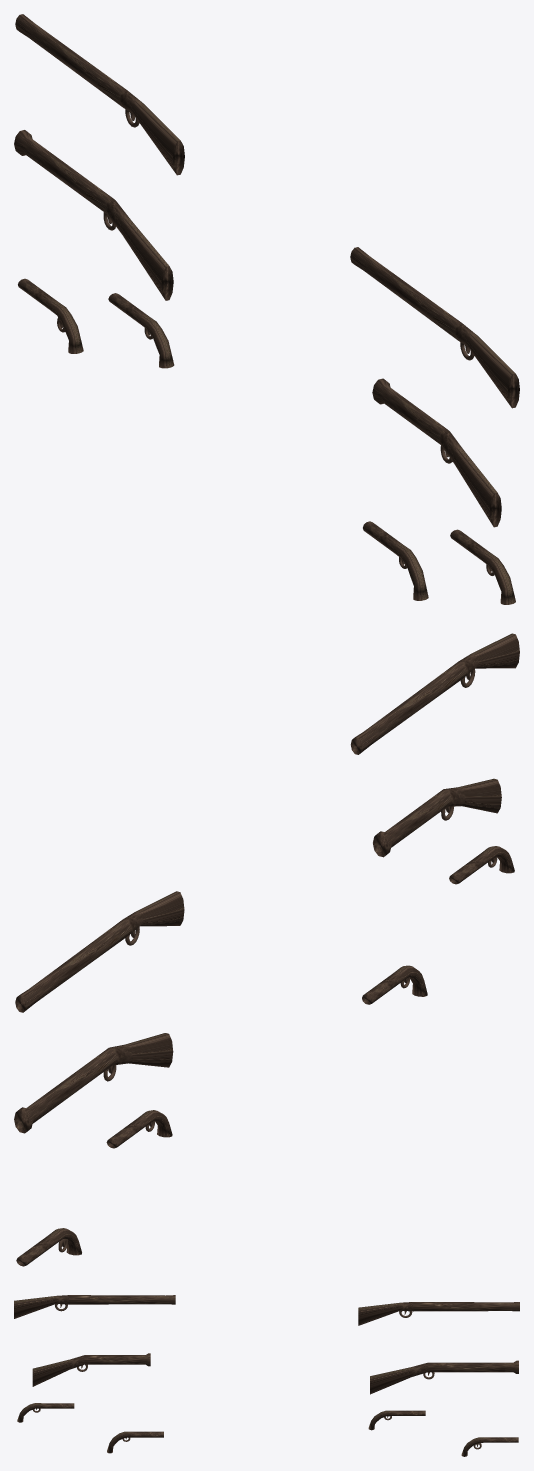
The model's file is koleksi.fbx.
3 views of the same model, one above another, from view 1: azimuth 30°, elevation 25°; view 2: azimuth 150°, elevation 25°; view 3: azimuth 270°, elevation 25° (orthographic). The views are drawn at different scales.
Parts seen in each view (by area): view 1: senjata.xl.001, senjata.xxl, senjata.xxl.001, senjata.xl, pistol.s2, pistol.s1.001, pistol.s1.002, pistol.s1; view 2: senjata.xxl, senjata.xxl.001, senjata.xl.001, senjata.xl, pistol.s2, pistol.s1, pistol.s1.001, pistol.s1.002; view 3: senjata.xl.001, senjata.xxl, senjata.xxl.001, senjata.xl, pistol.s2, pistol.s1.001, pistol.s1, pistol.s1.002.
Boxes of the visible parts, left/top/right/bottom form: senjata.xl.001: left=14, top=130, right=173, bottom=300; senjata.xxl: left=350, top=247, right=519, bottom=408; senjata.xxl.001: left=15, top=14, right=184, bottom=175; senjata.xl: left=372, top=378, right=501, bottom=527; pistol.s2: left=363, top=521, right=428, bottom=600; pistol.s1.001: left=108, top=293, right=174, bottom=368; pistol.s1.002: left=18, top=278, right=83, bottom=353; pistol.s1: left=450, top=529, right=515, bottom=604; senjata.xxl: left=350, top=633, right=519, bottom=754; senjata.xxl.001: left=15, top=891, right=184, bottom=1012; senjata.xl.001: left=14, top=1033, right=173, bottom=1133; senjata.xl: left=373, top=778, right=501, bottom=857; pistol.s2: left=362, top=965, right=427, bottom=1004; pistol.s1: left=449, top=846, right=514, bottom=884; pistol.s1.001: left=106, top=1110, right=172, bottom=1148; pistol.s1.002: left=16, top=1228, right=81, bottom=1266; senjata.xl.001: left=370, top=1360, right=518, bottom=1394; senjata.xxl: left=14, top=1295, right=175, bottom=1318; senjata.xxl.001: left=358, top=1302, right=519, bottom=1325; senjata.xl: left=32, top=1353, right=150, bottom=1386; pistol.s2: left=107, top=1431, right=163, bottom=1453; pistol.s1.001: left=368, top=1410, right=425, bottom=1430; pistol.s1: left=17, top=1403, right=74, bottom=1422; pistol.s1.002: left=461, top=1437, right=518, bottom=1456.
Bounding box in the file's own units: 22.36 × 382 × 1099.
4 materials, 4 textured.
